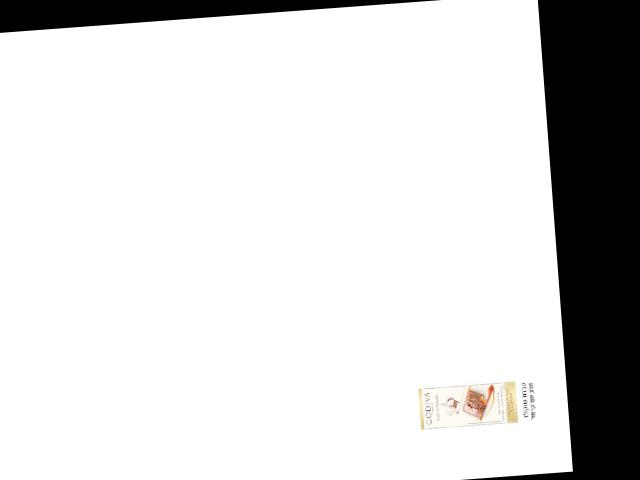chocolate: (415, 377, 521, 429)
